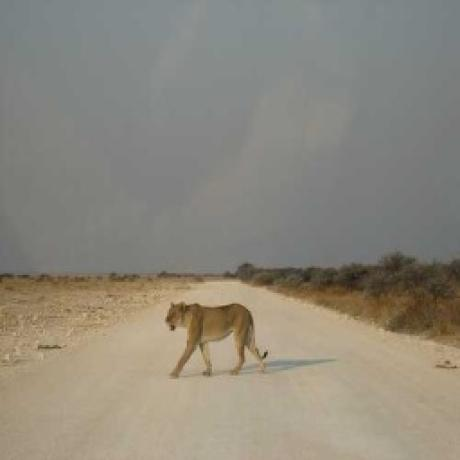Lion: (151, 292, 272, 382)
